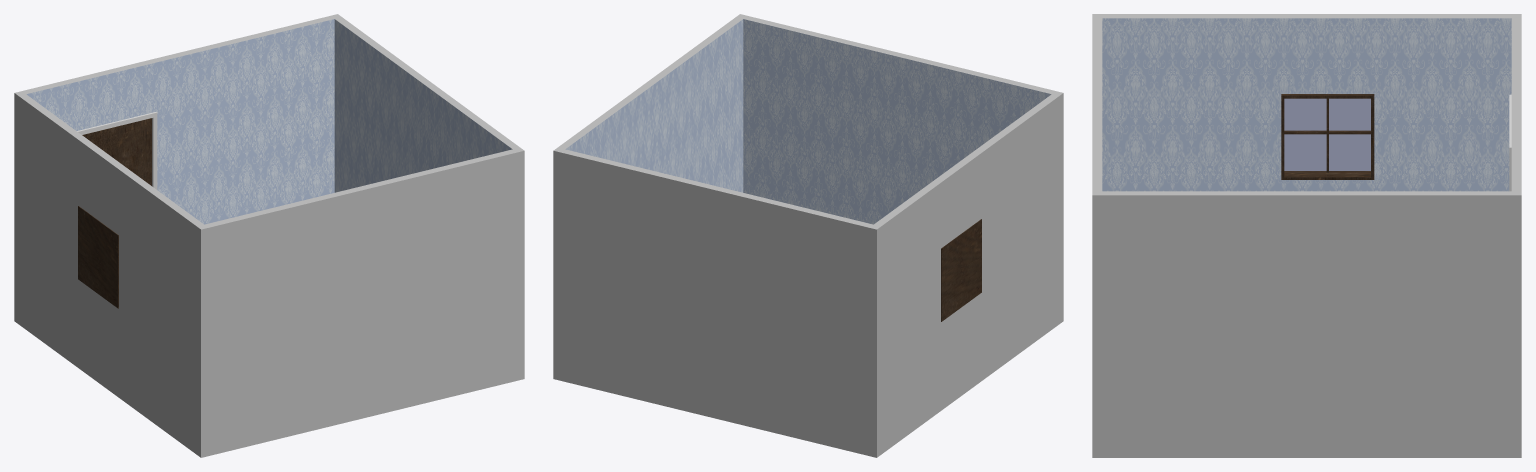
The model's file is home.fbx.
The picture shows the model from 3 angles, left to right: view 1: azimuth 30°, elevation 25°; view 2: azimuth 150°, elevation 25°; view 3: azimuth 270°, elevation 25°; orthographic projection. The views are drawn at different scales.
Parts seen in each view (by area): view 1: Cube, Cube.002, Cube.003; view 2: Cube, Cube.003; view 3: Cube, Cube.003.
Part boxes in pixels (x1,y1,x2,y2): Cube: [14, 14, 524, 457]; Cube.002: [77, 112, 157, 189]; Cube.003: [78, 206, 118, 308]; Cube: [553, 14, 1063, 457]; Cube.003: [941, 219, 981, 321]; Cube: [1092, 14, 1521, 457]; Cube.003: [1281, 94, 1374, 179].
Bounding box in the file's own units: 6011 × 4048 × 6000.
